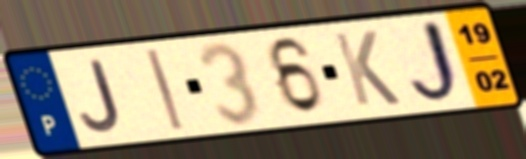3: (197, 36, 266, 130)
6: (266, 35, 326, 118)
I: (142, 46, 188, 133)
J: (406, 17, 469, 108), (77, 57, 125, 136)
K: (330, 28, 405, 109)
